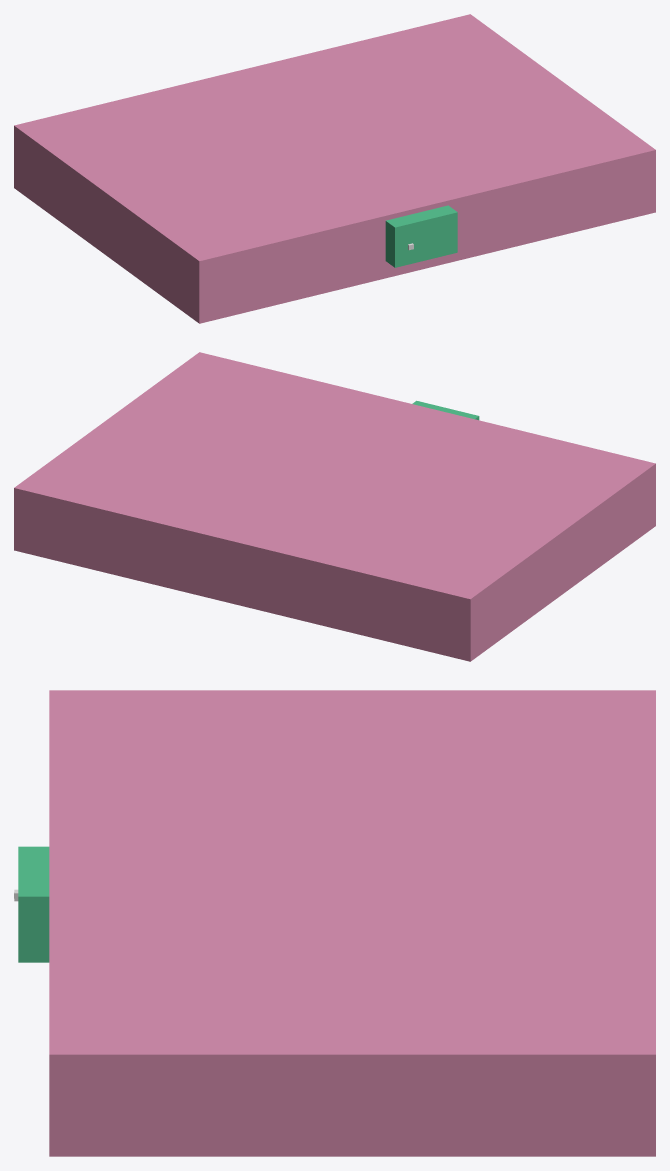
The model's file is ind_rubbish_01_e.dae.
3 views of the same model, one above another, from view 1: azimuth 30°, elevation 25°; view 2: azimuth 150°, elevation 25°; view 3: azimuth 270°, elevation 25° (orthographic). The views are drawn at different scales.
Parts seen in each view (by area): view 1: Untitled, Colmesh-1; view 2: Untitled; view 3: Untitled, Colmesh-1.
Boxes of the visible parts, x1,y1,x2,y2 form: Untitled: (14,14,655,323); Colmesh-1: (385,205,457,267); Untitled: (14,352,655,661); Untitled: (49,690,655,1156); Colmesh-1: (18,846,49,962).
Size of the model in its own units: 2.78 by 2.07 by 0.3643.
